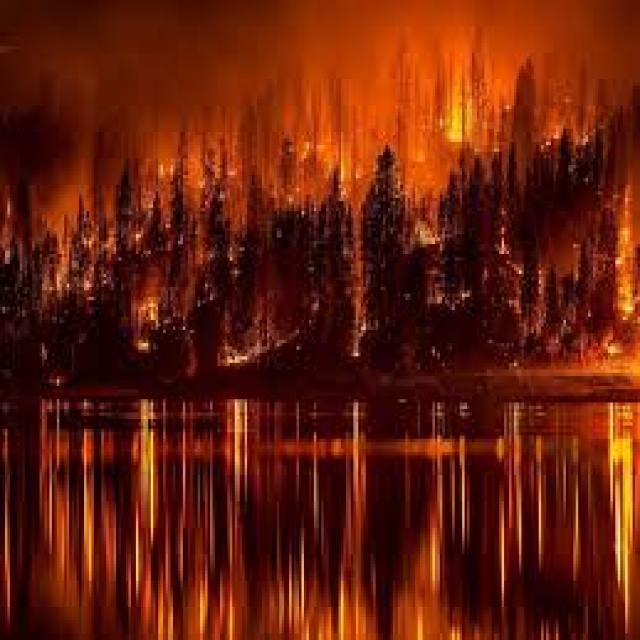Fire: (614, 180, 640, 319)
Smoke: (7, 0, 640, 205)
